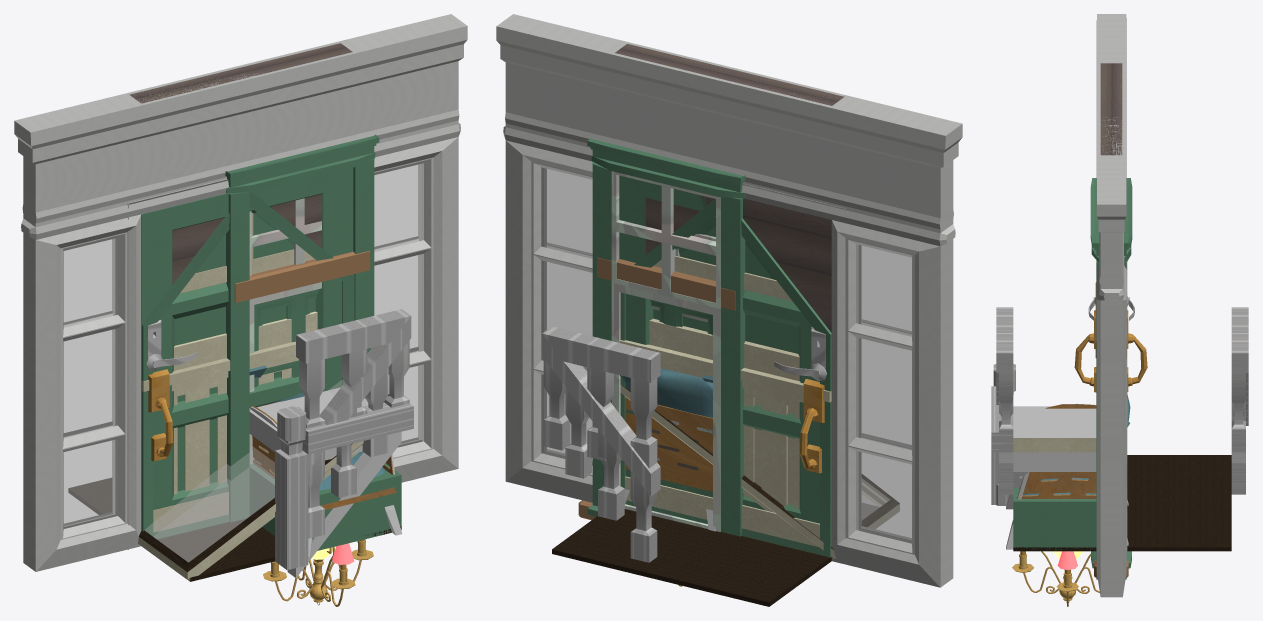
3 views of the same model, side by side, from view 1: azimuth 30°, elevation 25°; view 2: azimuth 150°, elevation 25°; view 3: azimuth 270°, elevation 25° (orthographic). The views are drawn at different scales.
Visible parts, largest first — view 1: 門框4, 門8, 窗戶12, 門7, 窗戶14, 屋頂4, 梯子欄杆_地板, 梯子欄杆, 窗戶13, 地板_7, 半磚1, 外圍欄杆 (+7 smaller); view 2: 門框4, 窗戶12, 窗戶14, 門7, 門8, 地板_7, 梯子欄杆, 梯子欄杆_地板, 椅子8, 窗戶13, 屋頂4, 門框3; view 3: 門框4, 地板_7, 梯子欄杆_地板, 梯子2_地板, 半磚1, 椅子8, 窗戶12, 窗戶14, 梯子欄杆, 燈11, 屋頂4, 門8 (+2 smaller).
Boxes of the visible parts, x1,y1,x2,y2 form: 門框4: [14, 14, 467, 571]; 門8: [141, 167, 353, 530]; 窗戶12: [225, 134, 379, 521]; 門7: [142, 213, 317, 532]; 窗戶14: [129, 43, 354, 538]; 屋頂4: [138, 379, 389, 581]; 梯子欄杆_地板: [296, 309, 410, 428]; 梯子欄杆: [308, 316, 411, 538]; 窗戶13: [234, 251, 370, 387]; 地板_7: [68, 478, 401, 581]; 半磚1: [250, 463, 401, 550]; 外圍欄杆: [275, 449, 308, 570]; 門框4: [496, 14, 962, 587]; 窗戶12: [587, 138, 745, 536]; 窗戶14: [615, 44, 844, 557]; 門7: [619, 256, 831, 546]; 門8: [619, 175, 824, 523]; 地板_7: [552, 503, 878, 606]; 梯子欄杆: [542, 334, 660, 562]; 梯子欄杆_地板: [542, 326, 660, 468]; 椅子8: [620, 368, 715, 531]; 窗戶13: [578, 257, 735, 520]; 屋頂4: [620, 385, 899, 558]; 門框3: [743, 183, 859, 564]; 門框4: [1096, 14, 1126, 597]; 地板_7: [1013, 455, 1231, 551]; 梯子欄杆_地板: [996, 307, 1248, 452]; 梯子2_地板: [1013, 406, 1096, 471]; 半磚1: [1013, 488, 1096, 551]; 椅子8: [1006, 394, 1130, 549]; 窗戶12: [1090, 178, 1132, 579]; 窗戶14: [1100, 63, 1122, 155]; 梯子欄杆: [996, 353, 1248, 494]; 燈11: [1012, 551, 1099, 606]; 屋頂4: [1013, 438, 1096, 452]; 門8: [1074, 310, 1147, 392].
Bounding box in the file's own units: 413 × 476 × 236.
